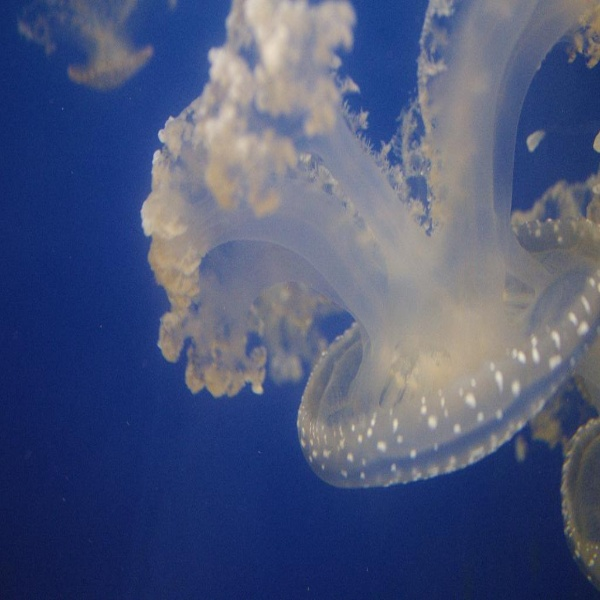Jellyfish: (137, 0, 599, 490)
